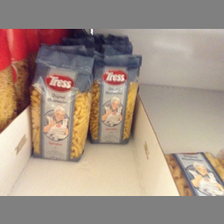pasta: (29, 45, 97, 162), (91, 52, 143, 144)
